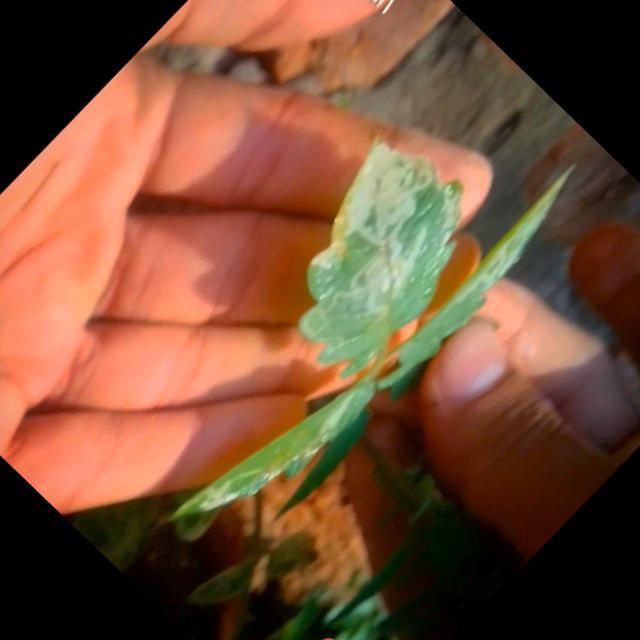Tomato target spot leaf: (230, 113, 510, 394), (165, 336, 388, 564), (384, 161, 602, 384)
